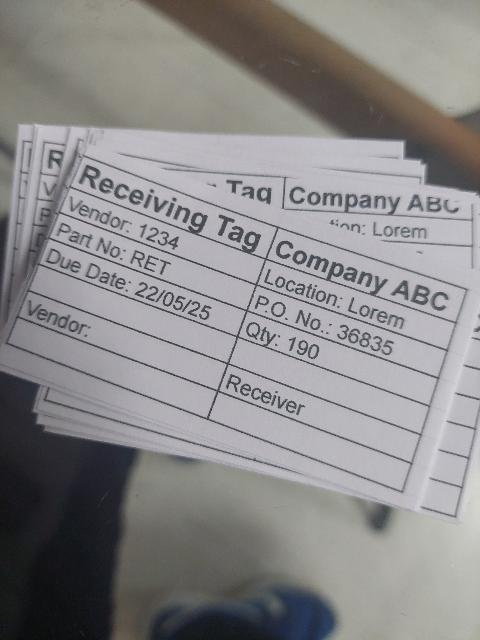PO no: (246, 282, 447, 378)
part no: (47, 212, 256, 312)
qty: (238, 311, 438, 405)
tags: (0, 143, 480, 511)
